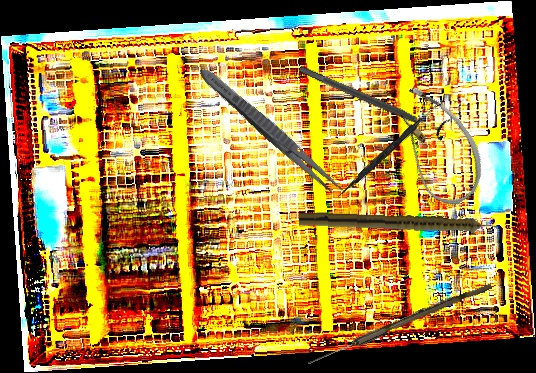Cannula: (372, 76, 500, 215)
Dressing Forceps: (194, 63, 349, 201)
Fixation Ring: (295, 57, 451, 142)
Handpiece: (298, 211, 501, 237)
Spatula Surgical: (336, 99, 442, 201)
Surgical Spoon: (306, 278, 493, 370)
